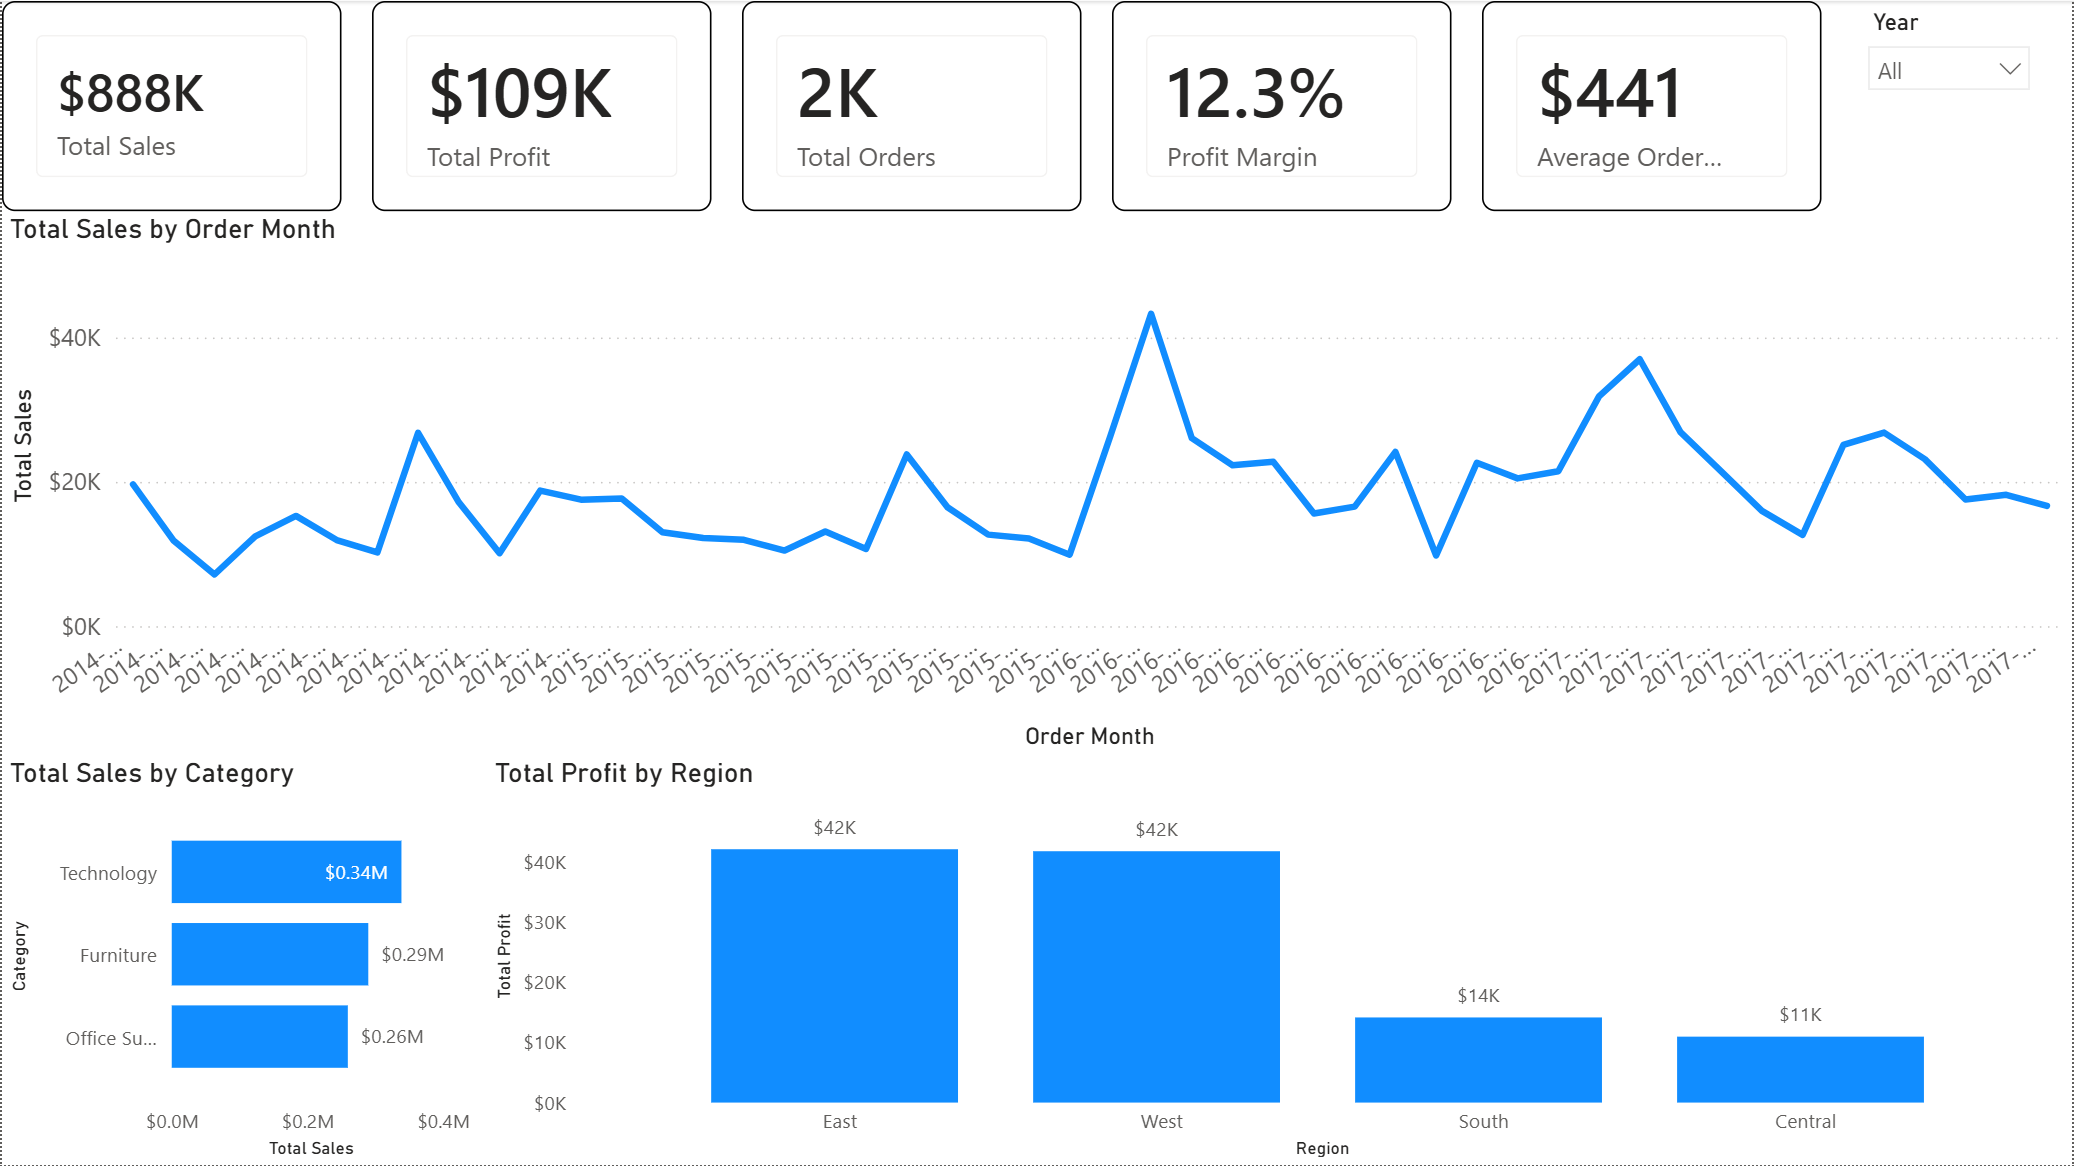

What the dashboard file says about the page in this screenshot:
{"tool":"powerbi","page":{"name":"Page 1","canvas":[1280,720],"ordinal":0},"visuals":[{"type":"cardVisual","fields":{"Data":["raw_superstore.Total Sales"]},"box":[0,0,210,130.3],"z":0},{"type":"cardVisual","fields":{"Data":["raw_superstore.Total Profit"]},"box":[228.9,0,210.2,130.3],"z":1000},{"type":"cardVisual","fields":{"Data":["raw_superstore.Total Orders"]},"box":[457.9,0,210,130.3],"z":2000},{"type":"cardVisual","fields":{"Data":["raw_superstore.Profit Margin"]},"box":[686.4,0,210.2,130.3],"z":3000},{"type":"cardVisual","fields":{"Data":["raw_superstore.Average Order Value"]},"box":[915.4,0,210.2,130.3],"z":4000},{"type":"lineChart","fields":{"Y":["raw_superstore.Total Sales"],"Category":["raw_superstore.Order Month"]},"box":[0,130.3,1280,337.2],"z":5000},{"type":"clusteredBarChart","fields":{"Category":["raw_superstore.Category"],"Y":["raw_superstore.Total Sales"]},"box":[0,466.8,299.9,253.4],"z":6000},{"type":"clusteredColumnChart","fields":{"Category":["raw_superstore.Region"],"Y":["raw_superstore.Total Profit"]},"box":[299.9,466.8,980.1,253.4],"z":7000},{"type":"slicer","fields":{"Values":["raw_superstore.Order Date.Variation.Date Hierarchy.Year"]},"box":[1144.5,0,120.5,130.3],"z":8000}]}

Visuals, with their boxes in screenshot pixels (x1, y1, x2, y2), scaled from the page's 1280x720 canvas onto the 2074x1166 screenshot:
cardVisual - raw_superstore.Total Sales: region(0, 0, 340, 211)
cardVisual - raw_superstore.Total Profit: region(371, 0, 711, 211)
cardVisual - raw_superstore.Total Orders: region(742, 0, 1082, 211)
cardVisual - raw_superstore.Profit Margin: region(1112, 0, 1453, 211)
cardVisual - raw_superstore.Average Order Value: region(1483, 0, 1824, 211)
lineChart - raw_superstore.Total Sales x raw_superstore.Order Month: region(0, 211, 2073, 757)
clusteredBarChart - raw_superstore.Category x raw_superstore.Total Sales: region(0, 756, 486, 1165)
clusteredColumnChart - raw_superstore.Region x raw_superstore.Total Profit: region(486, 756, 2073, 1165)
slicer - raw_superstore.Order Date.Variation.Date Hierarchy.Year: region(1854, 0, 2050, 211)
